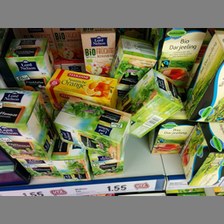tea: (50, 97, 132, 157), (118, 69, 183, 140), (1, 89, 56, 159), (44, 67, 119, 109), (4, 37, 54, 85), (108, 35, 155, 85)
